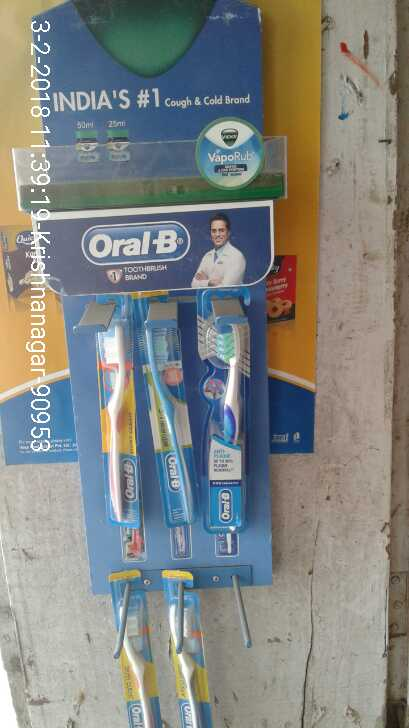oralb: (198, 298, 261, 544), (95, 324, 144, 525), (140, 322, 188, 525)
